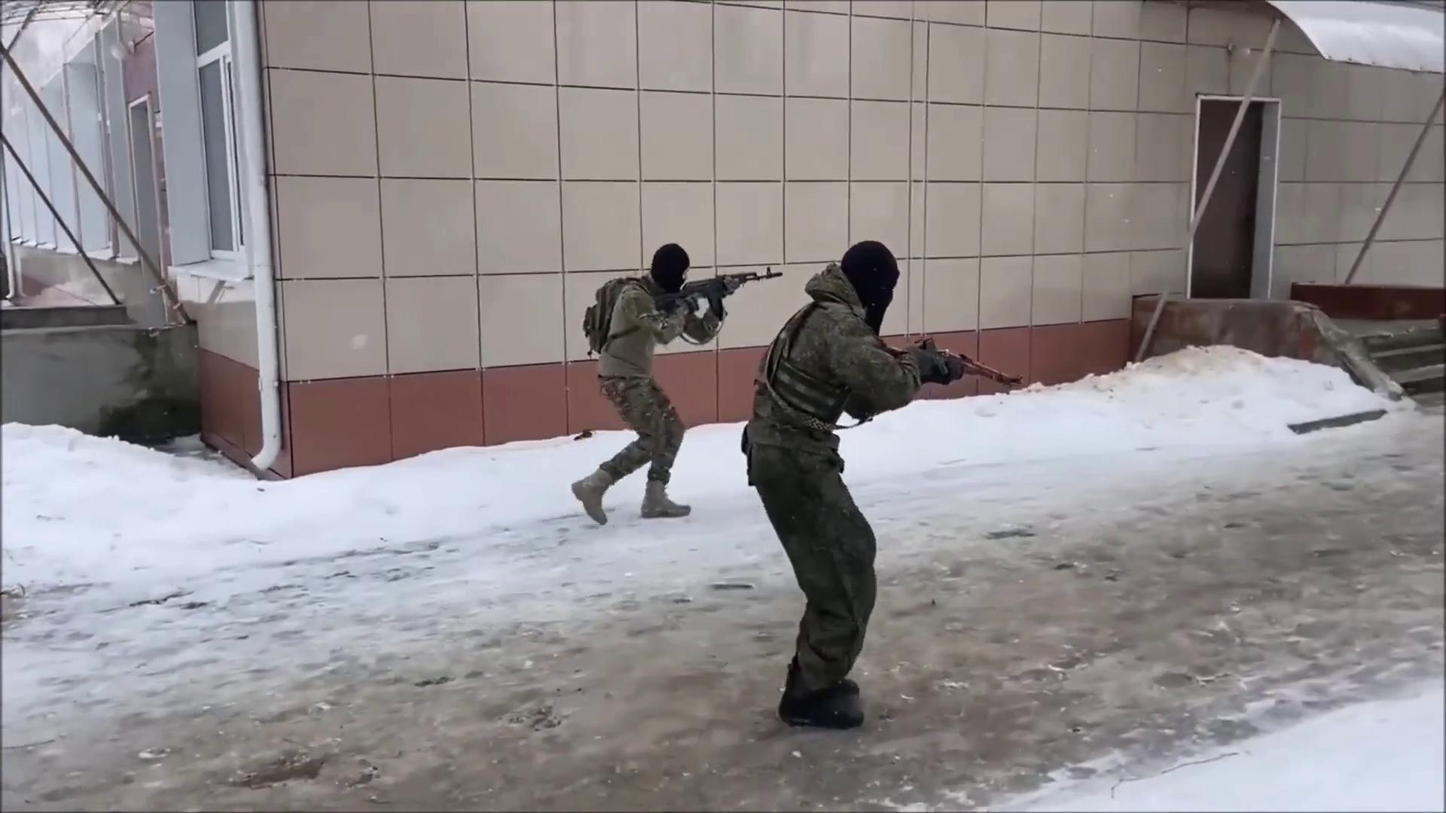person: (739, 236, 968, 729), (568, 240, 741, 528)
rifle: (875, 326, 1027, 392)
